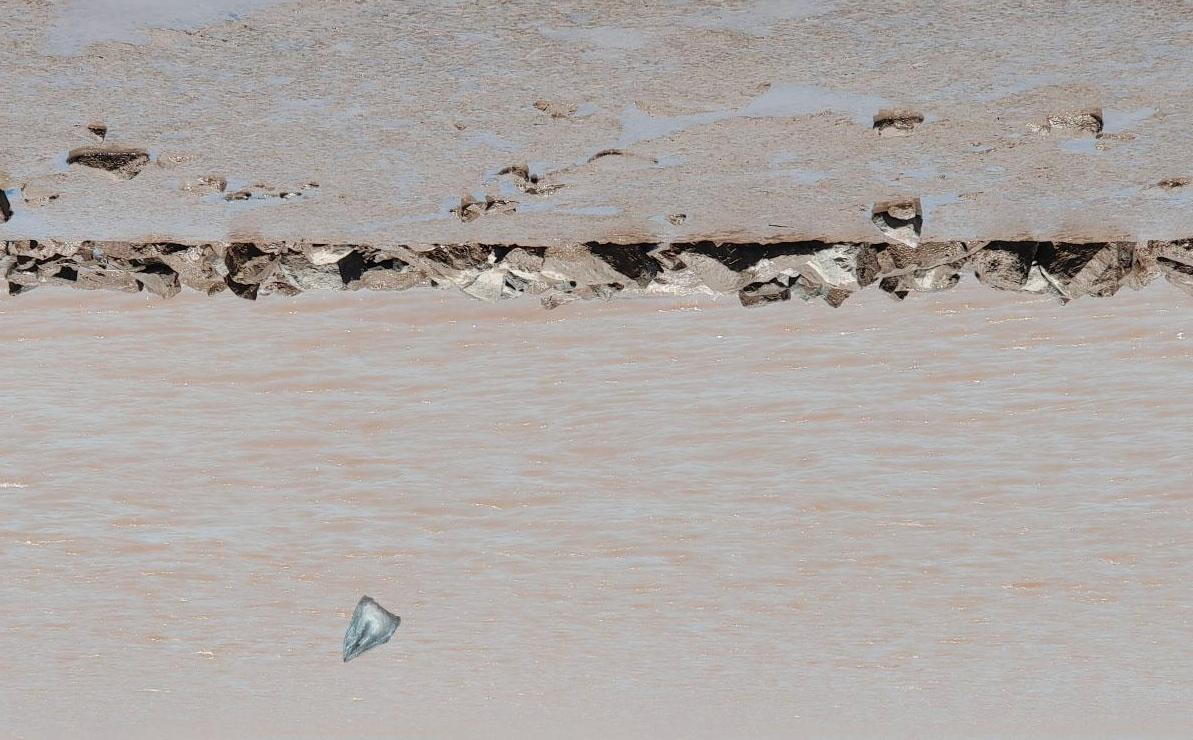Trash: (337, 592, 399, 669)
